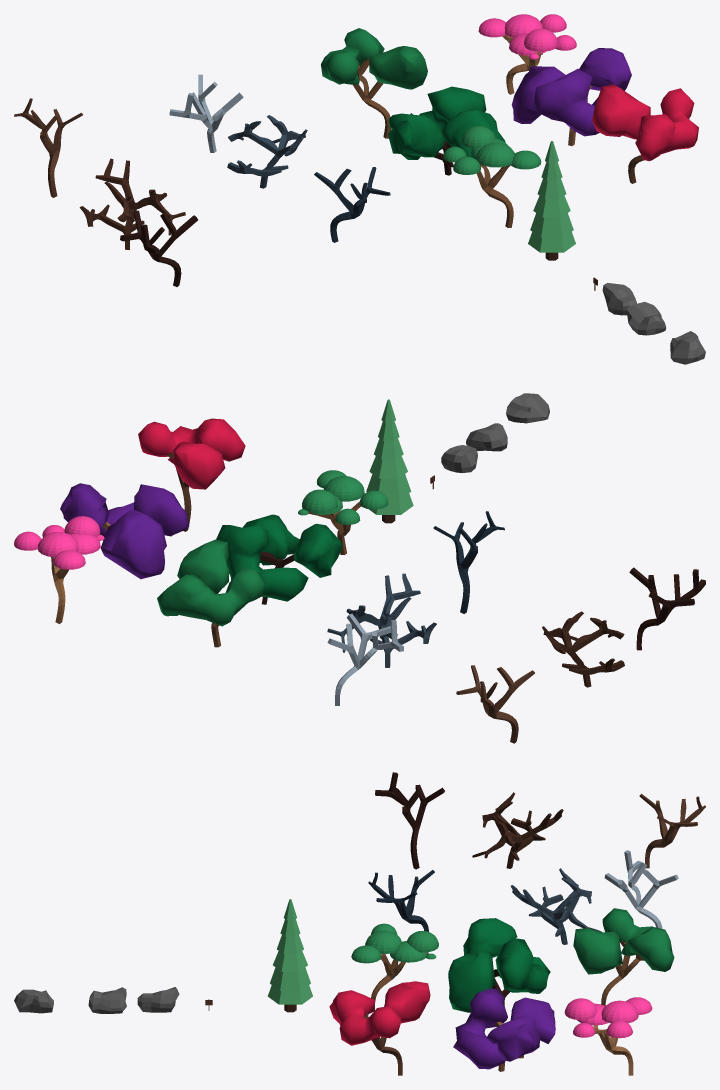
The model's file is Props.fbx.
3 views of the same model, one above another, from view 1: azimuth 30°, elevation 25°; view 2: azimuth 150°, elevation 25°; view 3: azimuth 270°, elevation 25° (orthographic). The views are drawn at different scales.
Visible parts, largest first — view 1: Arbol_2.002, Arbol_3.002, Arbol_2, Arbol_3, Arbol_1, Arbol_1.002, Pino, Arbol_2.003, Arbol_2.001, Arbol_3.003, Arbol_3.001, Arbol_1.001 (+4 smaller); view 2: Arbol_2.002, Arbol_2, Arbol_3, Arbol_3.002, Arbol_1.002, Arbol_1, Pino, Arbol_2.001, Arbol_2.003, Arbol_3.001, Arbol_3.003, Arbol_1.003 (+4 smaller); view 3: Arbol_2, Arbol_2.002, Arbol_3, Arbol_3.002, Arbol_1.002, Pino, Arbol_1, Arbol_2.003, Arbol_2.001, Arbol_3.001, Arbol_3.003, Arbol_1.003 (+4 smaller).
Boxes of the visible parts, box(x1,y1,x2,y2) form: Arbol_2.002: box(511, 48, 631, 145); Arbol_3.002: box(592, 84, 698, 183); Arbol_2: box(388, 86, 505, 175); Arbol_3: box(321, 28, 427, 138); Arbol_1: box(443, 126, 541, 227); Arbol_1.002: box(478, 14, 576, 94); Pino: box(528, 141, 575, 260); Arbol_2.003: box(79, 158, 185, 249); Arbol_2.001: box(227, 115, 307, 188); Arbol_3.003: box(120, 210, 197, 286); Arbol_3.001: box(169, 74, 243, 152); Arbol_1.001: box(314, 167, 390, 242); Arbol_2.002: box(60, 483, 189, 579); Arbol_2: box(216, 514, 342, 604); Arbol_3: box(157, 539, 264, 647); Arbol_3.002: box(138, 418, 245, 531); Arbol_1.002: box(14, 516, 104, 623); Arbol_1: box(298, 470, 388, 554); Pino: box(366, 399, 413, 523); Arbol_2.001: box(327, 573, 436, 667); Arbol_2.003: box(542, 611, 624, 687); Arbol_3.001: box(327, 613, 403, 705); Arbol_3.003: box(629, 567, 705, 650); Arbol_1.003: box(456, 665, 534, 743); Arbol_2: box(448, 918, 550, 1012); Arbol_2.002: box(453, 988, 555, 1071); Arbol_3: box(573, 908, 674, 1005); Arbol_3.002: box(329, 981, 430, 1075); Arbol_1.002: box(564, 997, 652, 1075); Pino: box(267, 899, 312, 1012); Arbol_1: box(351, 923, 438, 1011); Arbol_2.003: box(472, 792, 563, 868); Arbol_2.001: box(510, 868, 601, 944); Arbol_3.001: box(604, 850, 678, 928); Arbol_3.003: box(375, 772, 444, 869); Arbol_1.003: box(639, 793, 705, 868).
Bounding box in the file's own units: 6696 × 1371 × 7639.
Materials: 2 (1 with a texture image).
